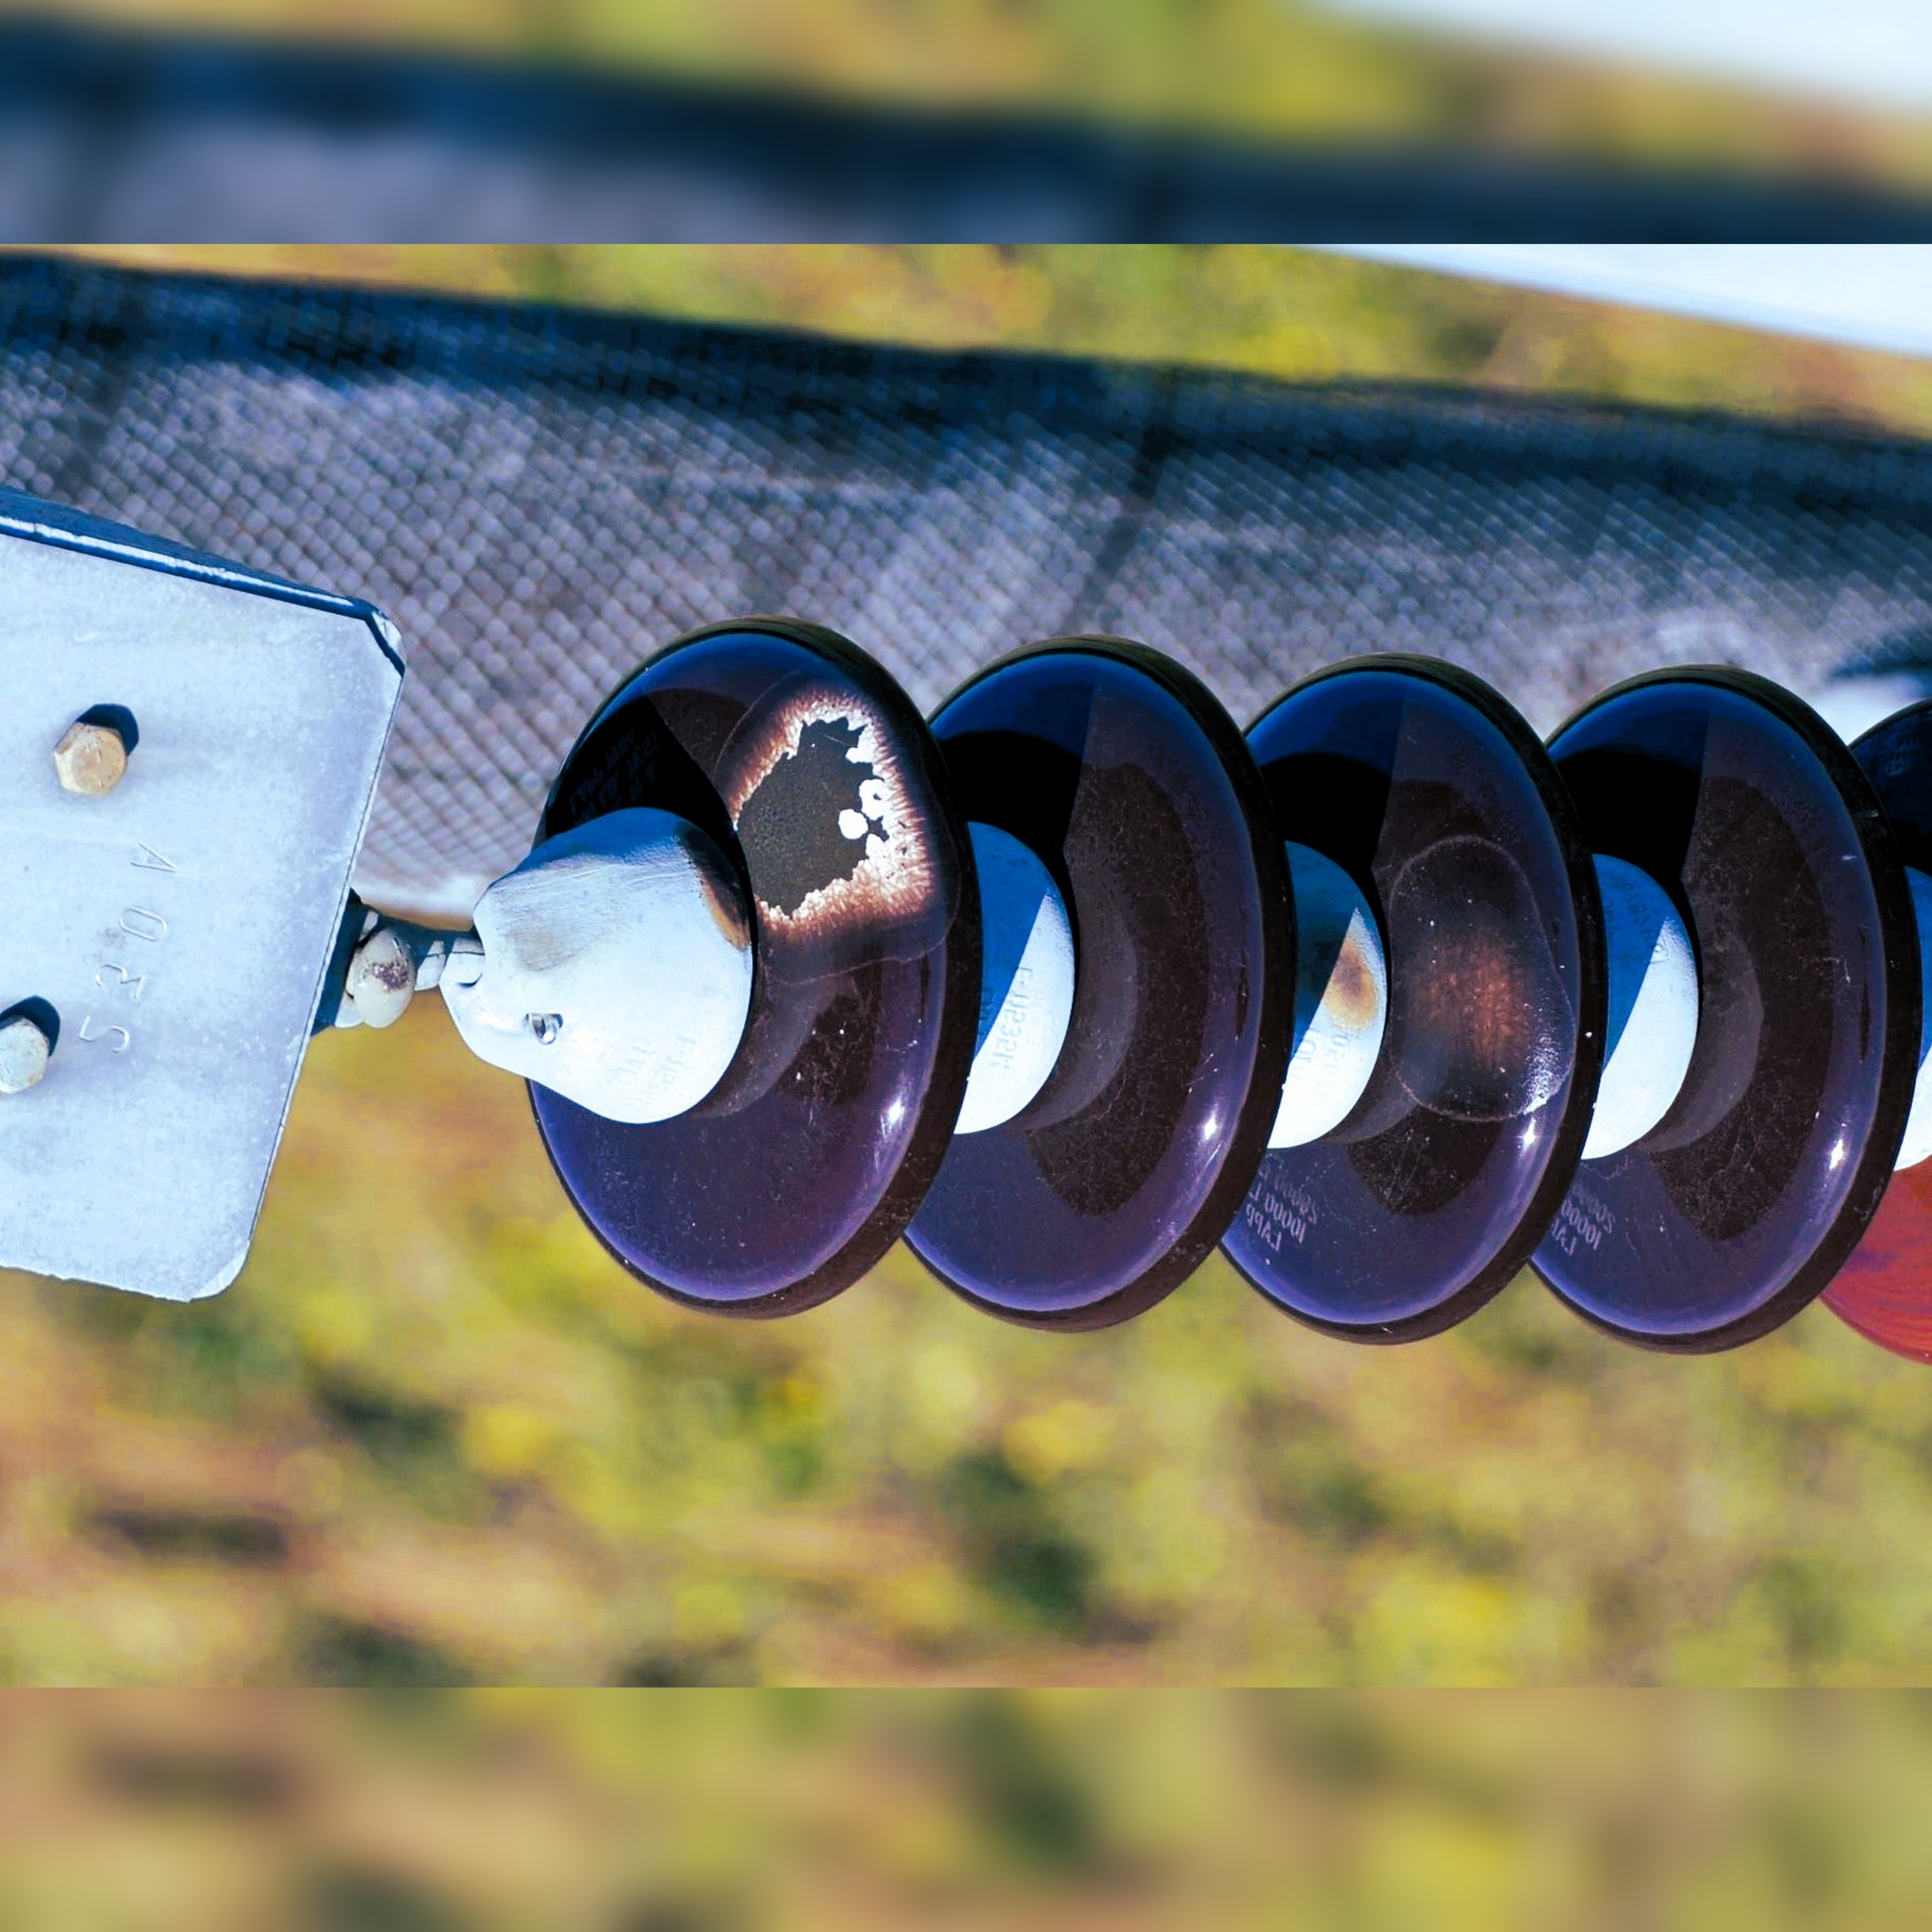Insulator flashover: (494, 600, 989, 1330)
